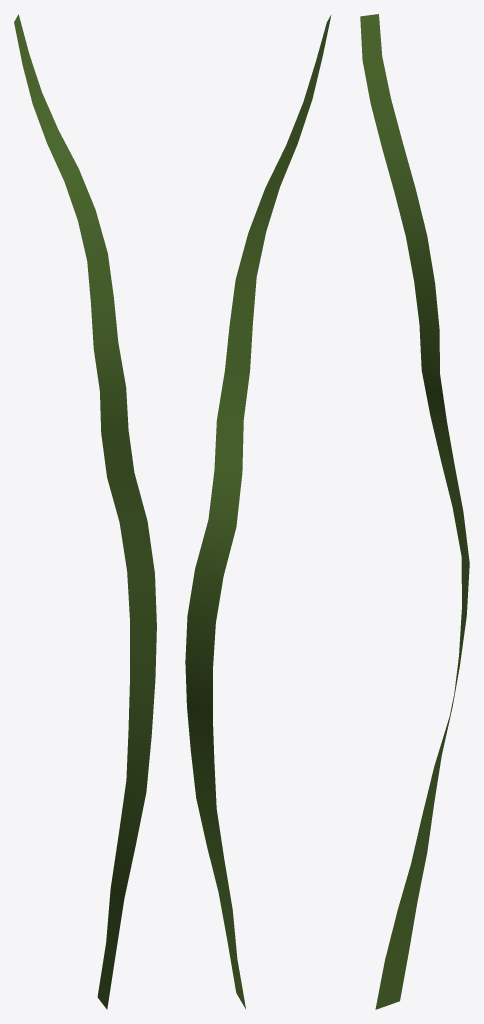
File: plant_swamp_kelp_long_solo_N.fbx
3 renders of one model, left to right at view 1: azimuth 30°, elevation 25°; view 2: azimuth 210°, elevation 25°; view 3: azimuth 330°, elevation 25°, orthographic. The views are drawn at different scales.
Visible parts, largest first — view 1: plant_swamp_kelp_long_solo_N; view 2: plant_swamp_kelp_long_solo_N; view 3: plant_swamp_kelp_long_solo_N.
Boxes of the visible parts, x1,y1,x2,y2 form: plant_swamp_kelp_long_solo_N: [14, 14, 156, 1009]; plant_swamp_kelp_long_solo_N: [185, 15, 331, 1008]; plant_swamp_kelp_long_solo_N: [360, 14, 469, 1009].
Bounding box in the file's own units: 32.67 × 244 × 20.88.
